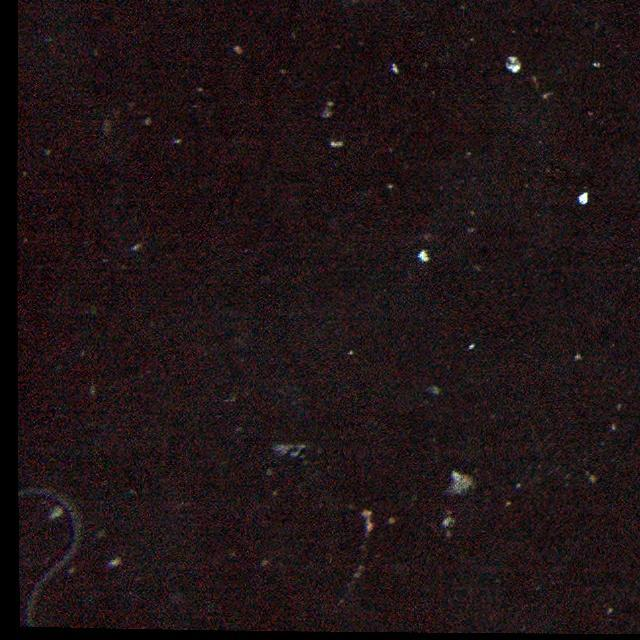eel: (19, 484, 88, 629)
